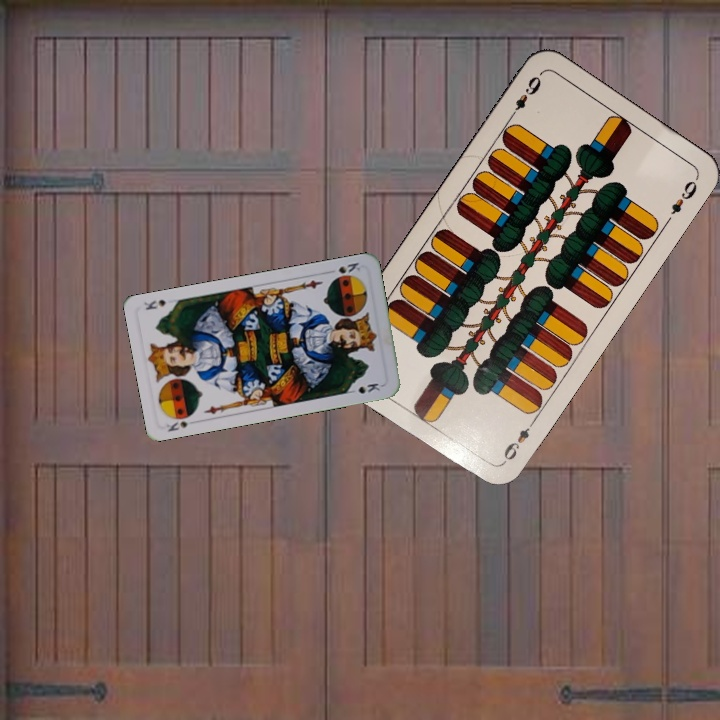E9: (505, 69, 544, 122), (498, 416, 538, 467)
SK: (329, 258, 363, 282), (163, 417, 192, 434)
